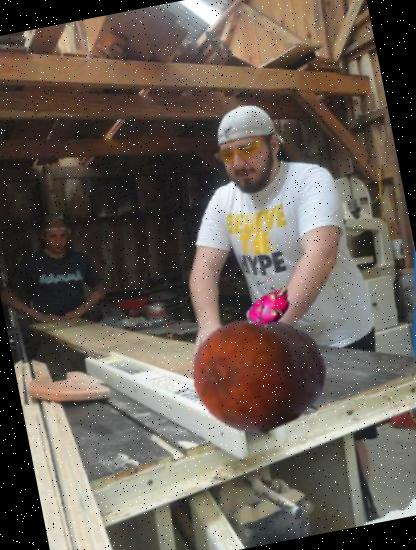Nut: (180, 293, 338, 452)
Pitahaya: (238, 277, 300, 338)
